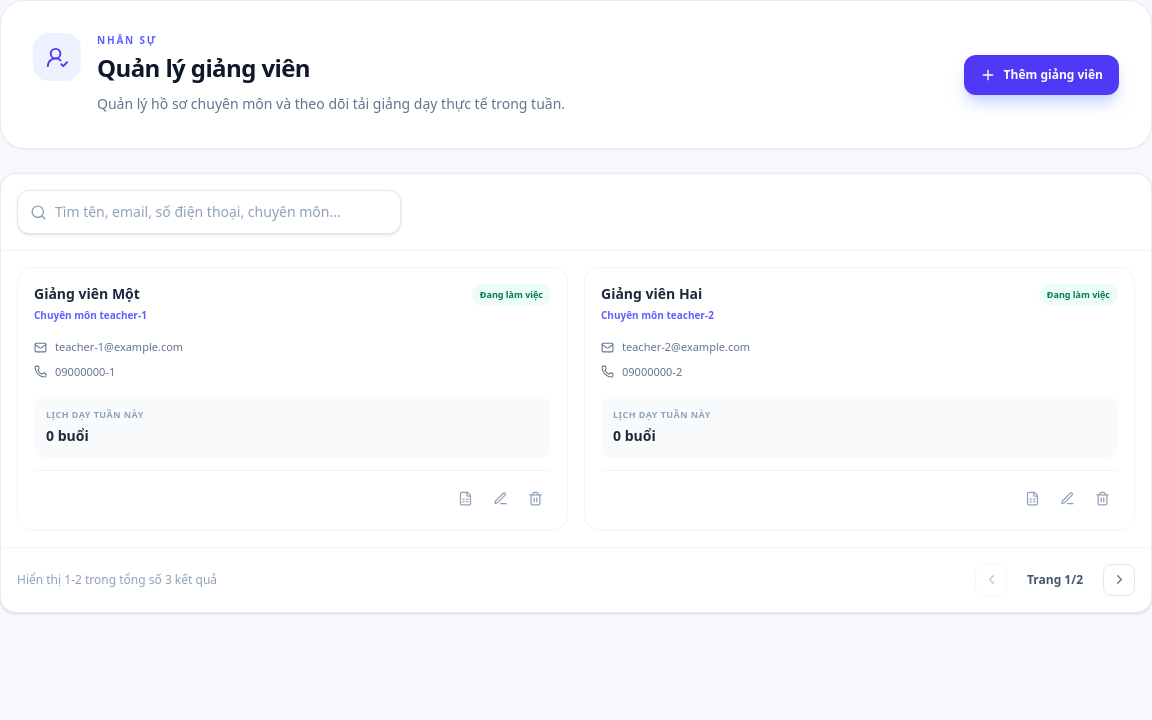
Test: StaffPage › phân trang danh sách giảng viên
Expected: the text "Giảng viên Một" is shown, [34, 284, 147, 304]
Expected: the text "Giảng viên Ba" is not shown
Click the button named "Trang sau" at (1119, 580), box [1103, 564, 1135, 596]
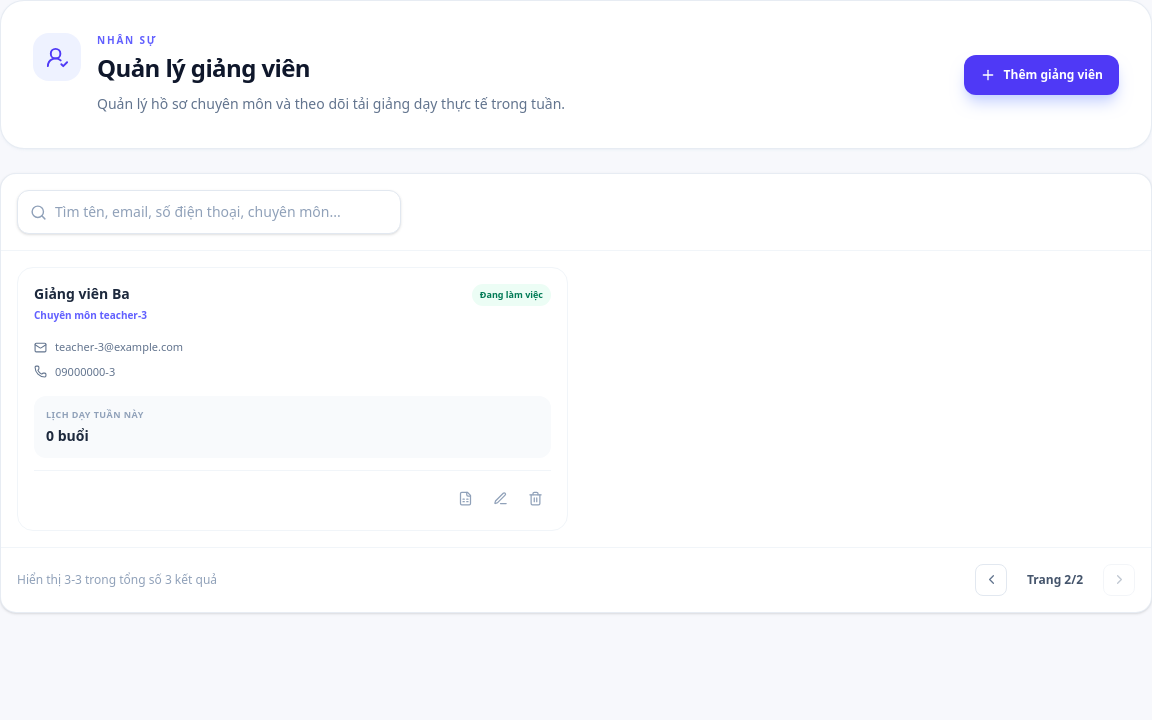
Now the text "Giảng viên Ba" is shown, box [34, 284, 130, 303]
Now the text "Giảng viên Một" is gone
Now the text "Trang 2/2" is shown, box [1027, 570, 1083, 588]
